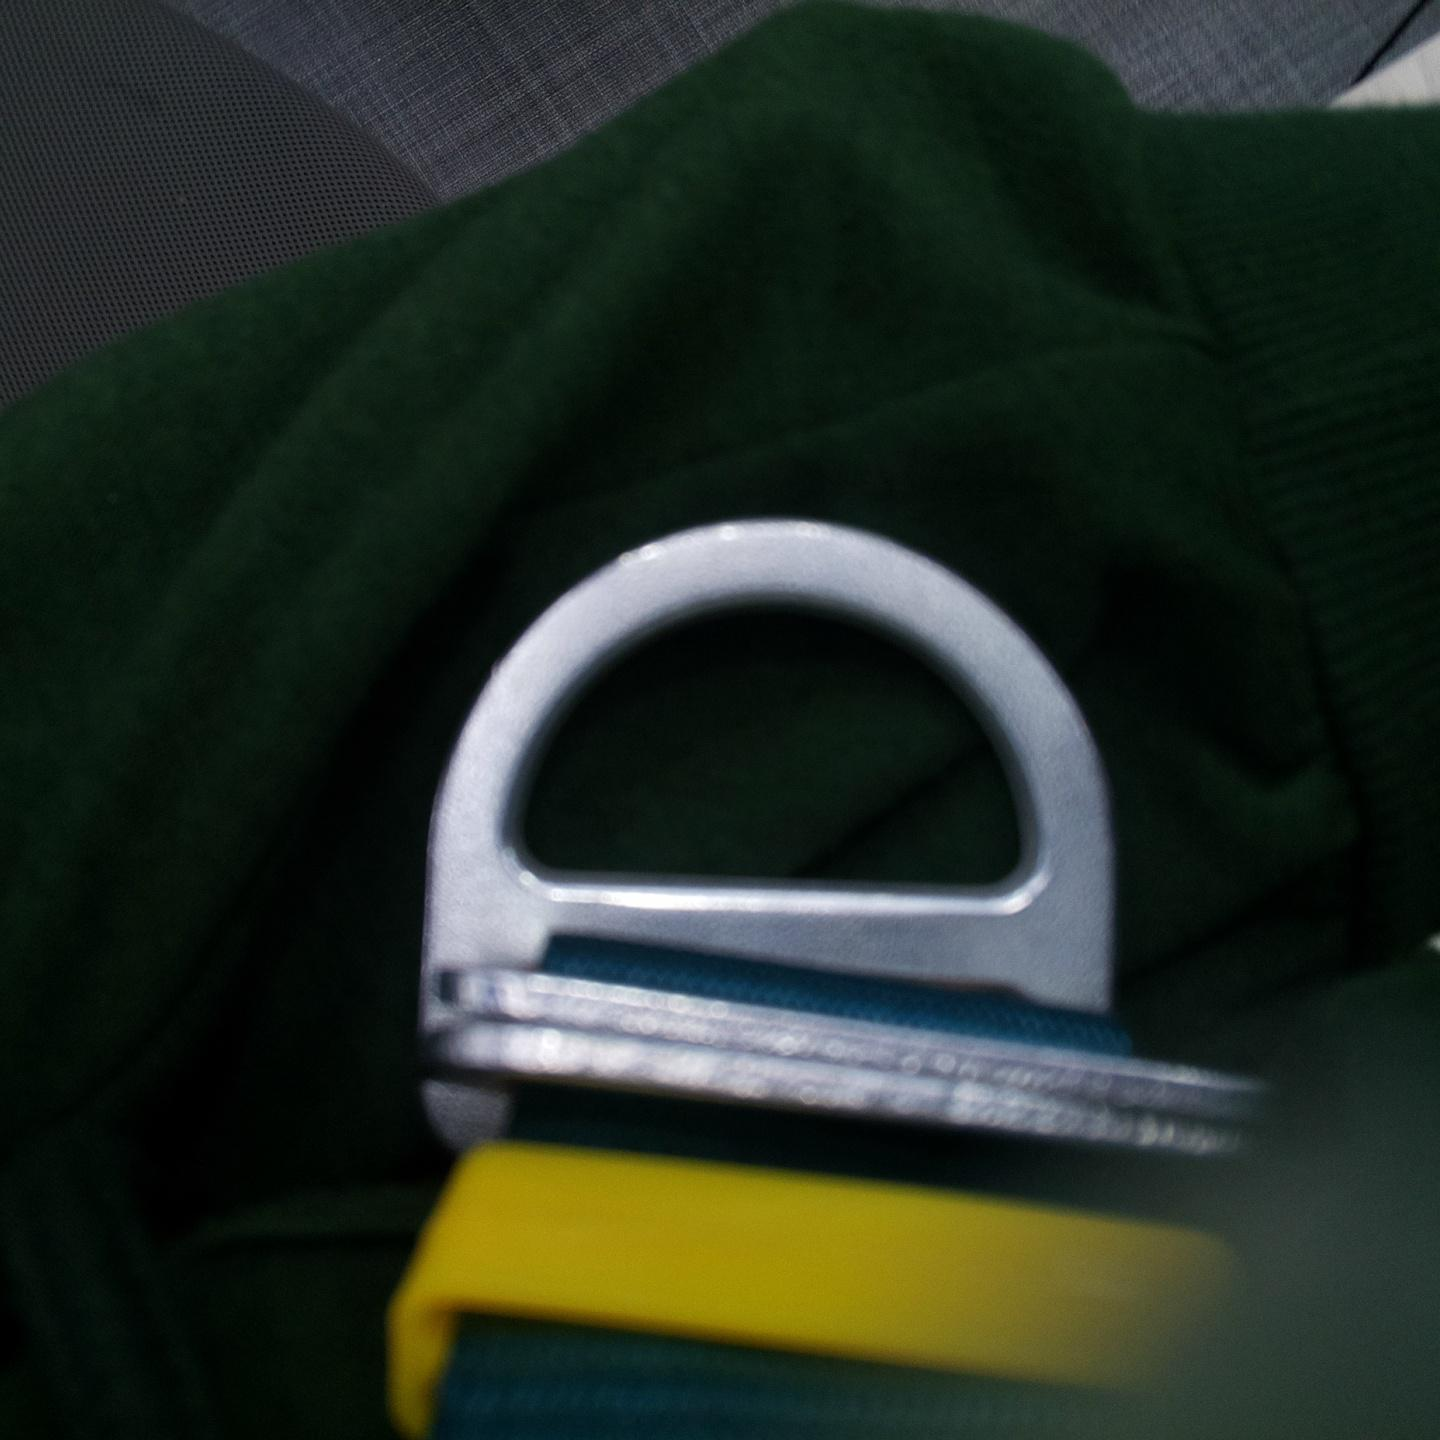UNSUCCESS: (419, 524, 1121, 967)
